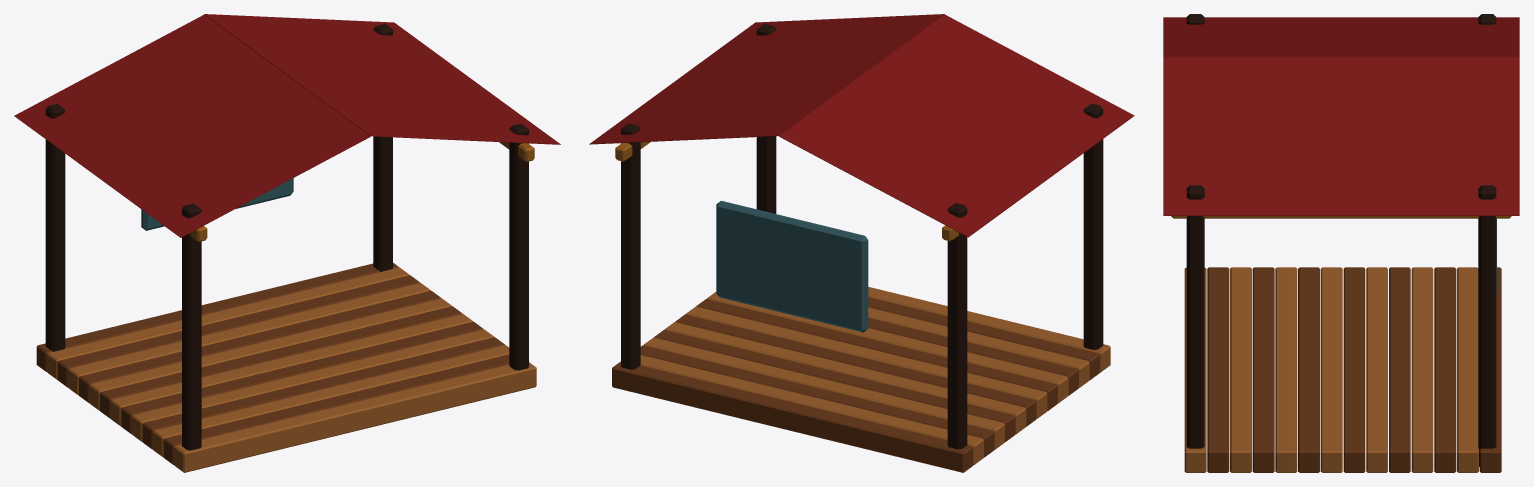
File: Pavilhao_de_eventos_LOD0.fbx
3 views of the same model, side by side, from view 1: azimuth 30°, elevation 25°; view 2: azimuth 150°, elevation 25°; view 3: azimuth 270°, elevation 25° (orthographic). The views are drawn at different scales.
Visible parts, largest first — view 1: Pavilhao_de_eventos_LOD0; view 2: Pavilhao_de_eventos_LOD0; view 3: Pavilhao_de_eventos_LOD0.
Part boxes in pixels (left/top/right/bottom): Pavilhao_de_eventos_LOD0: left=14, top=14, right=560, bottom=472; Pavilhao_de_eventos_LOD0: left=589, top=14, right=1134, bottom=472; Pavilhao_de_eventos_LOD0: left=1163, top=14, right=1519, bottom=472.
Bounding box in the file's own units: 580 × 441 × 440.
1 material, 1 textured.
